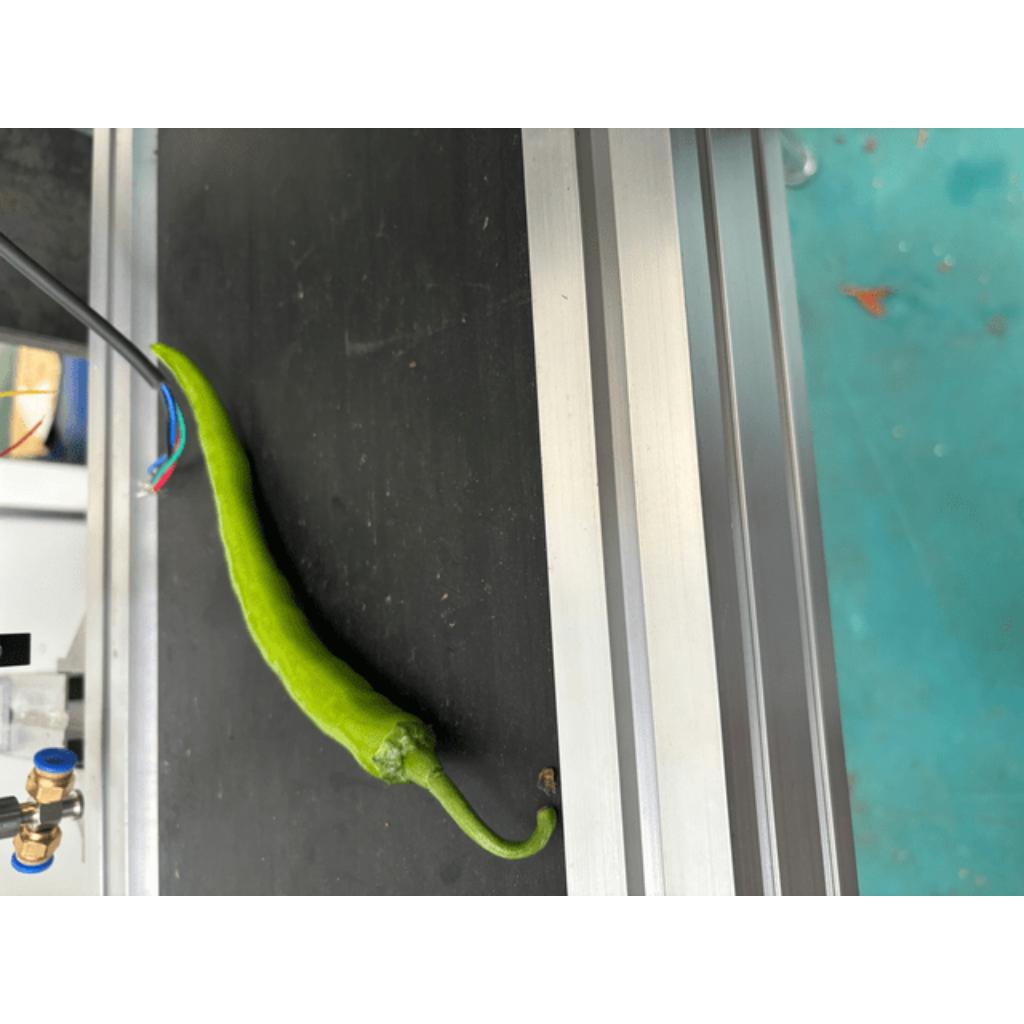chili: (144, 335, 439, 783)
